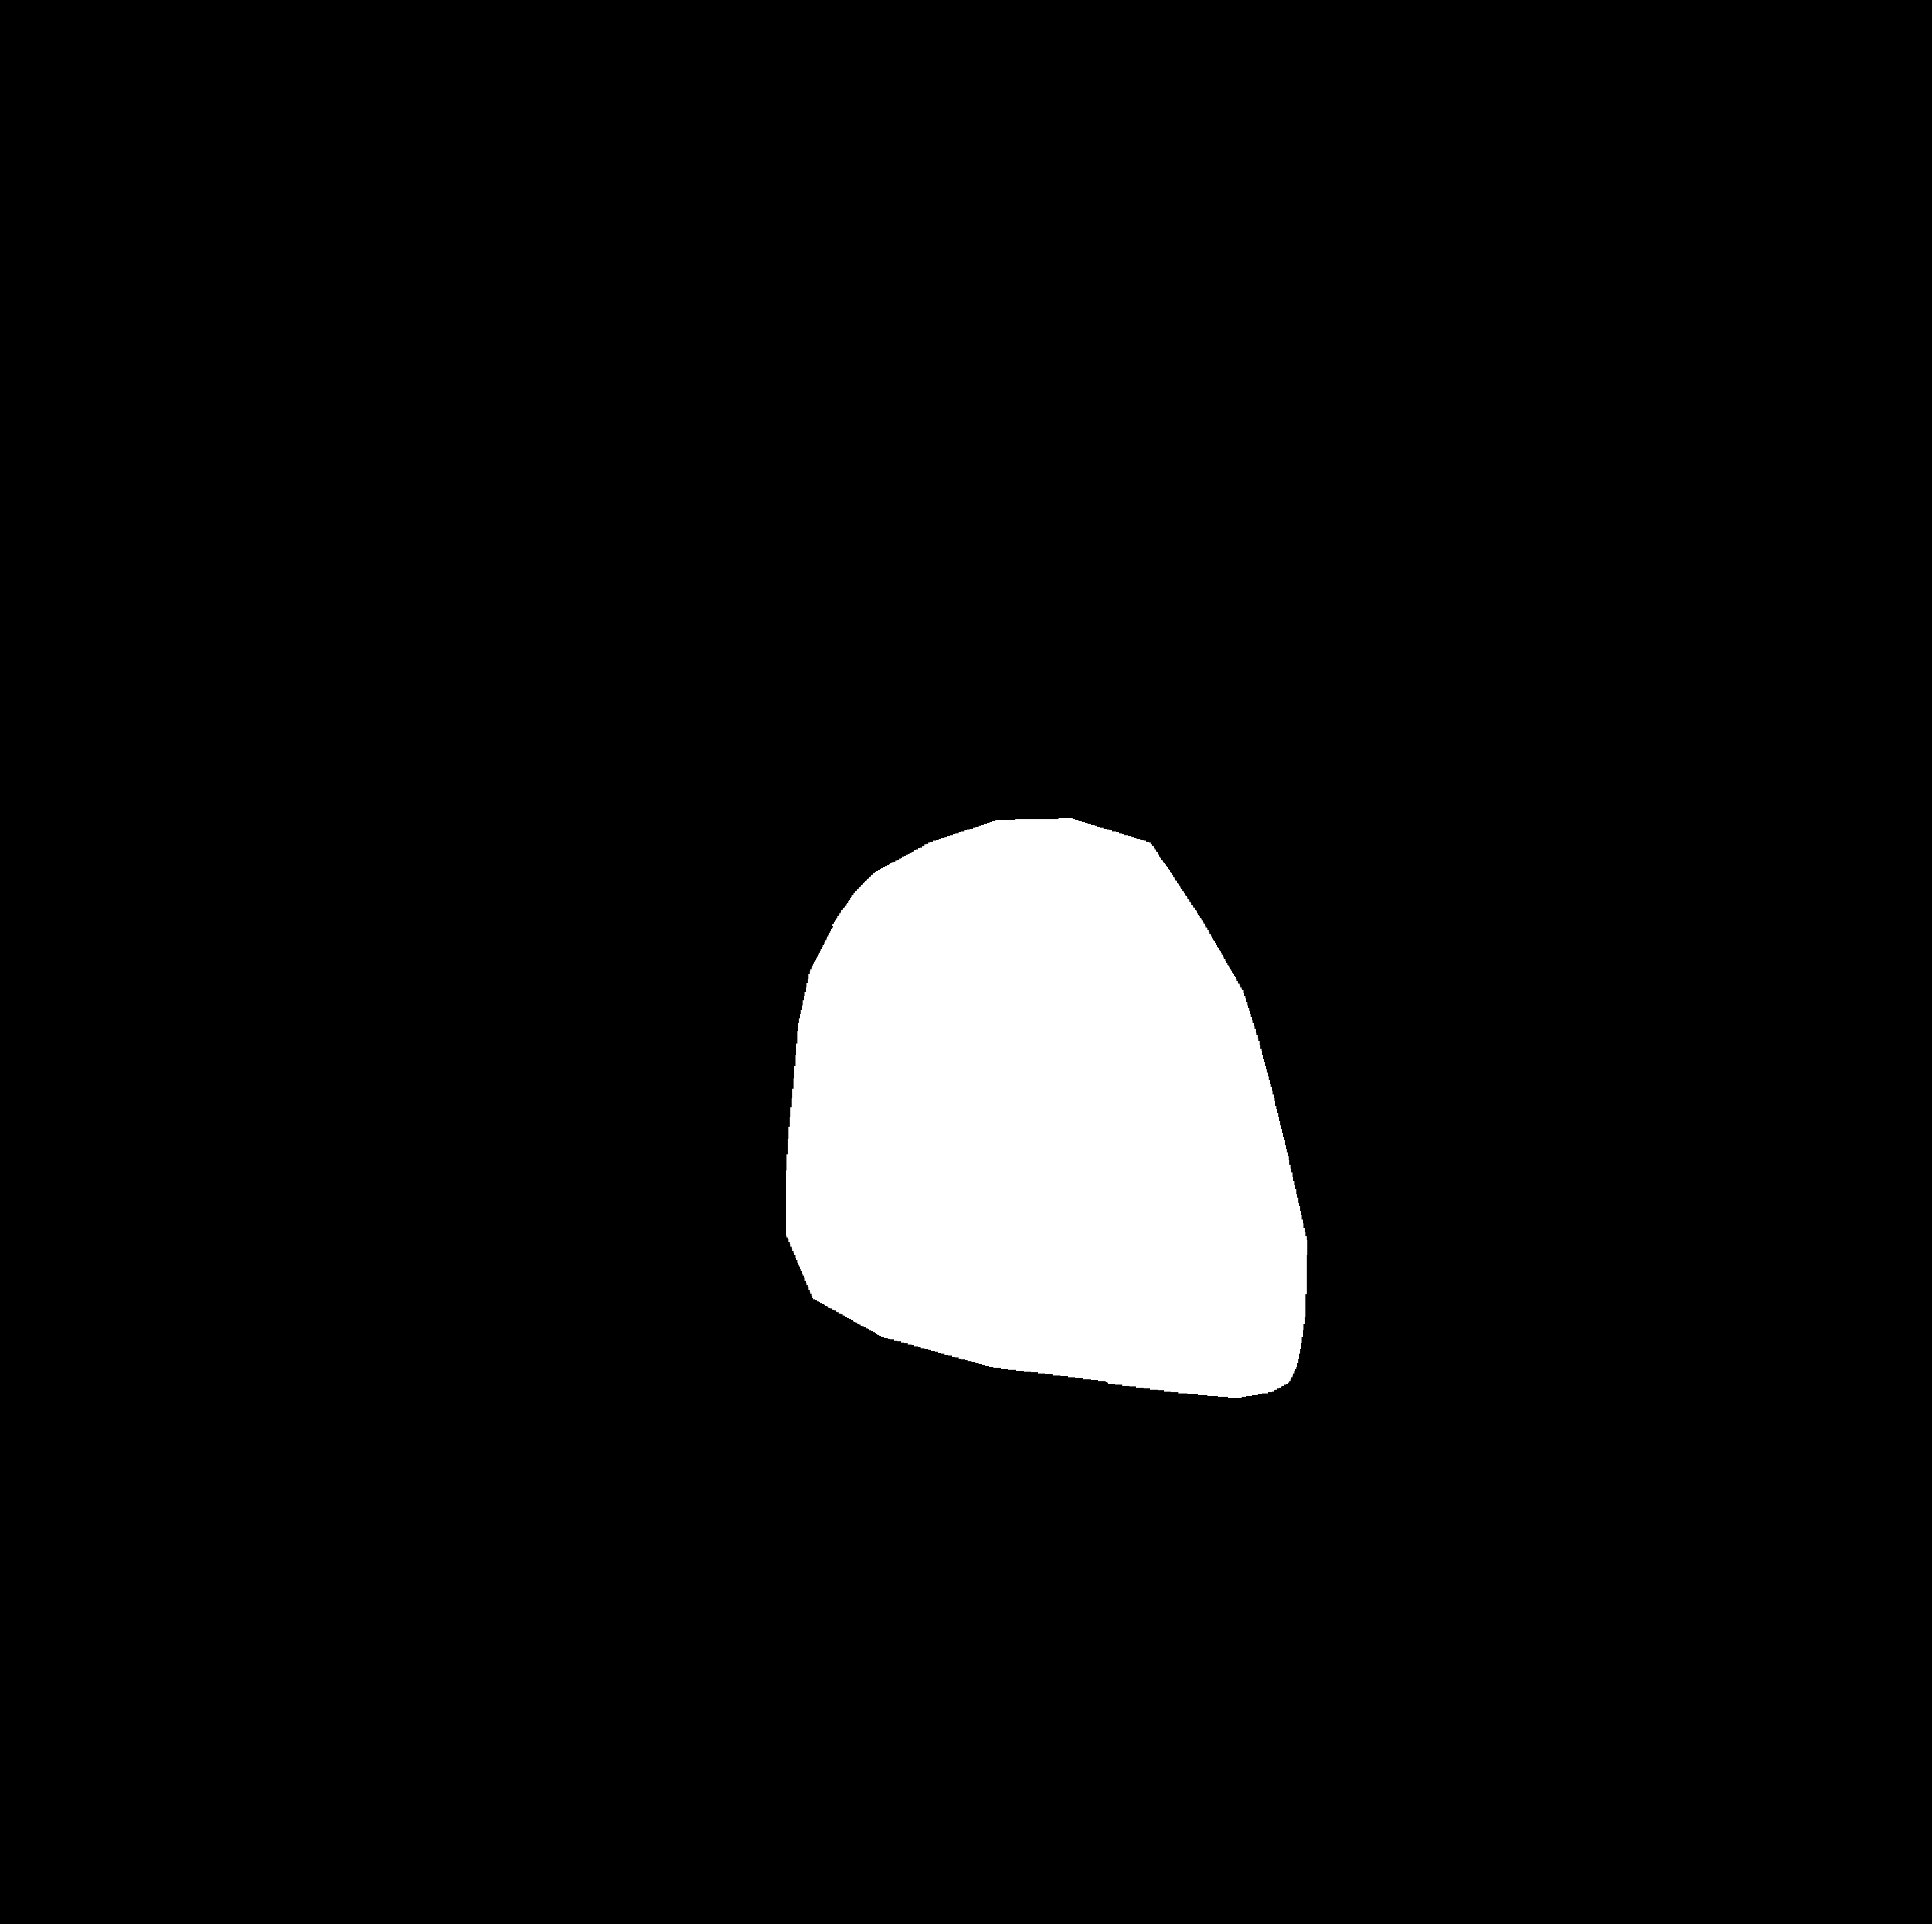heart: (788, 888, 1304, 1410)
left_lung: (321, 321, 881, 1476)
right_lung: (1063, 303, 1576, 1554)
